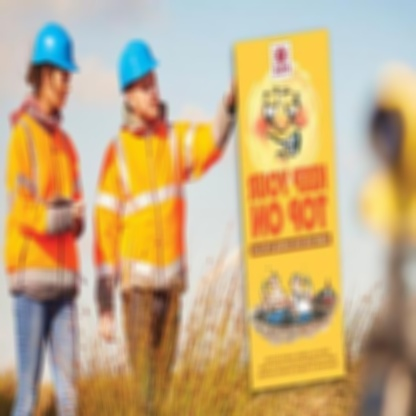blue: (29, 20, 81, 77), (117, 35, 161, 92)
vest: (89, 111, 232, 307), (3, 104, 86, 302)
